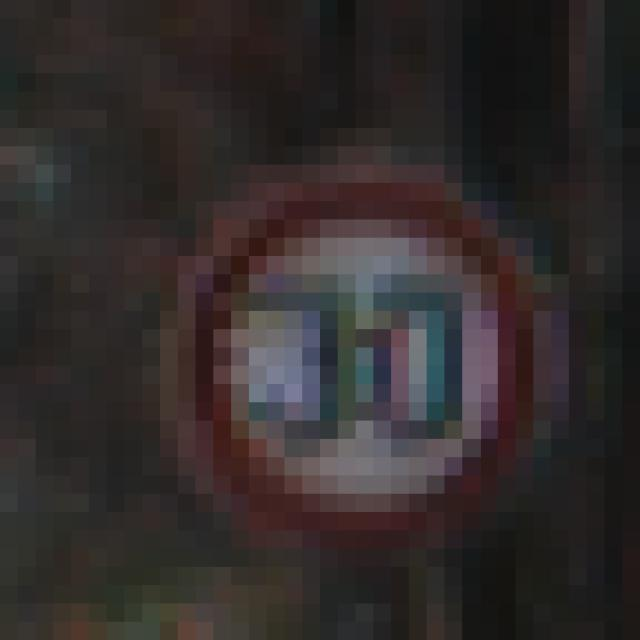Speed Limit -30-: (80, 82, 542, 521)
